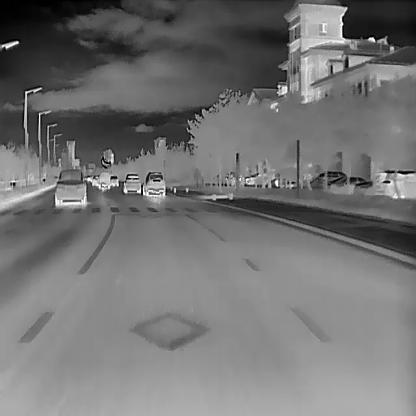car: (54, 167, 87, 205), (376, 169, 415, 198), (326, 174, 373, 187), (317, 169, 347, 189), (142, 171, 165, 196), (123, 172, 141, 193), (244, 170, 267, 184), (98, 171, 109, 189), (109, 173, 118, 185)
